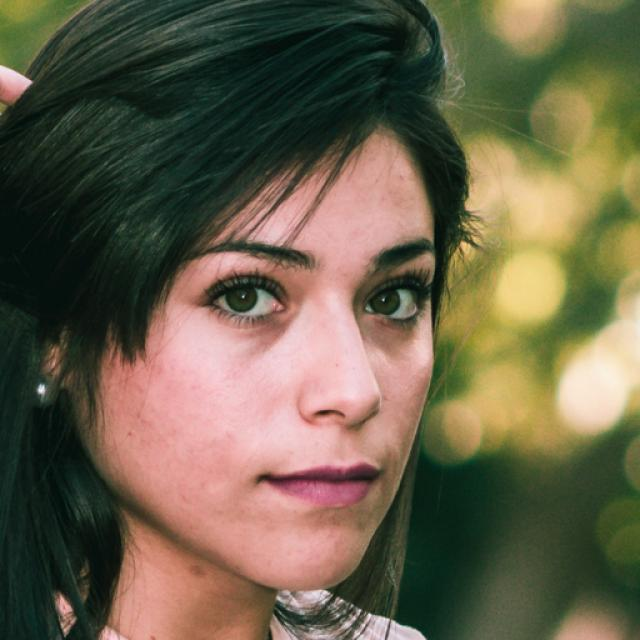neutral: (72, 114, 436, 592)
